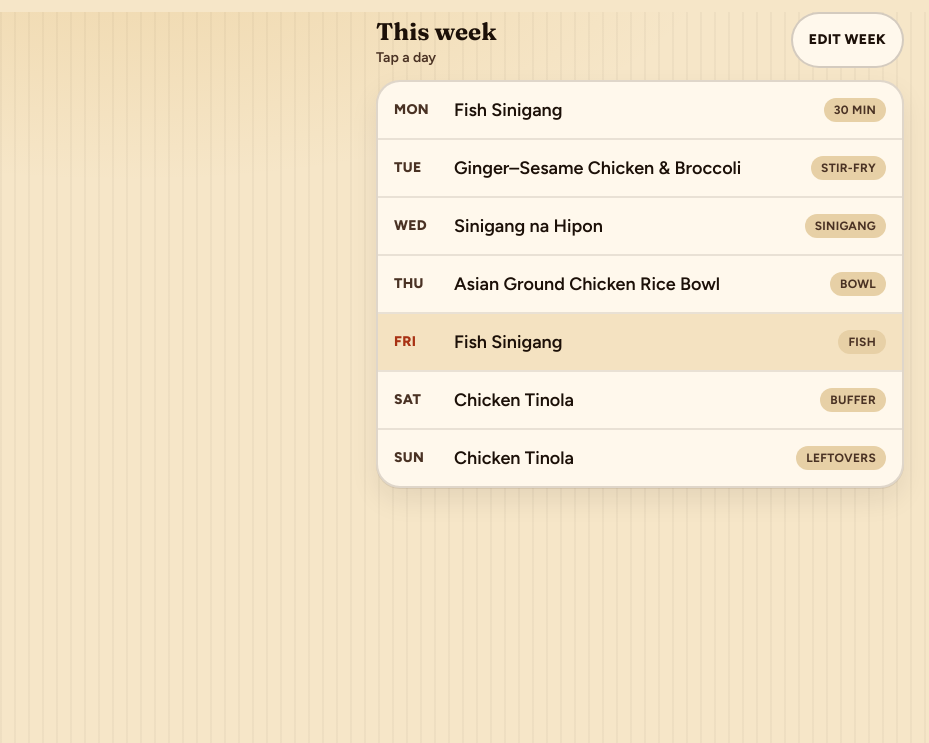
Test: WeekPlan › resets the persisted plan back to the default
The image size is (929, 743).
Expected: the link "Mon Fish Sinigang 30 min" is shown, [394, 98, 886, 122]
Click the button "Edit week": (847, 40) [791, 12, 904, 68]
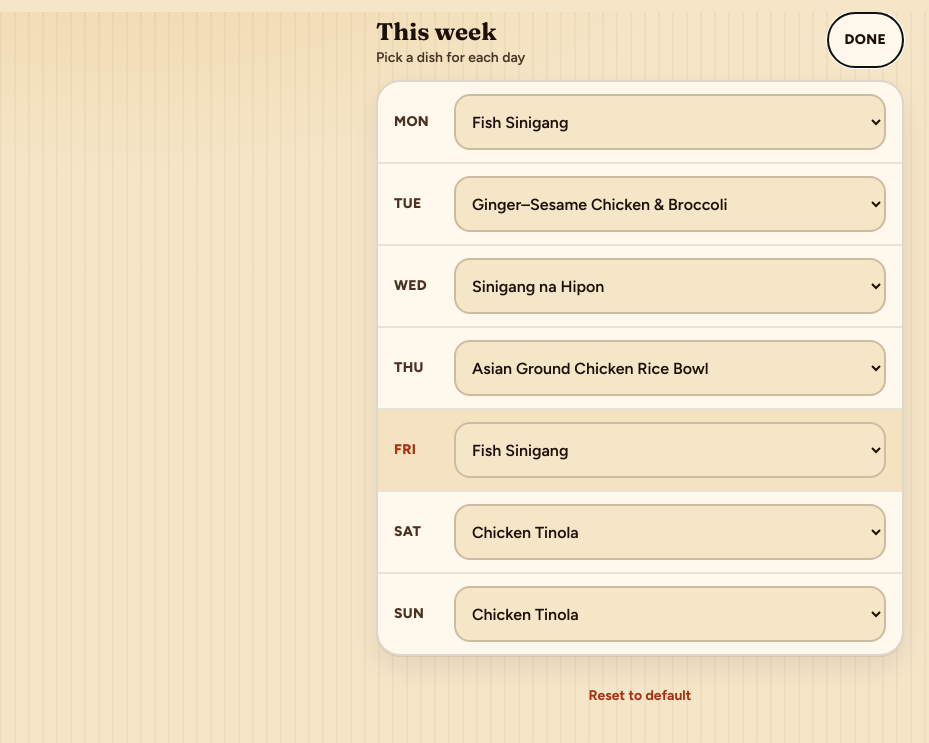
Click the button "Reset to default": (640, 696) [376, 668, 904, 724]
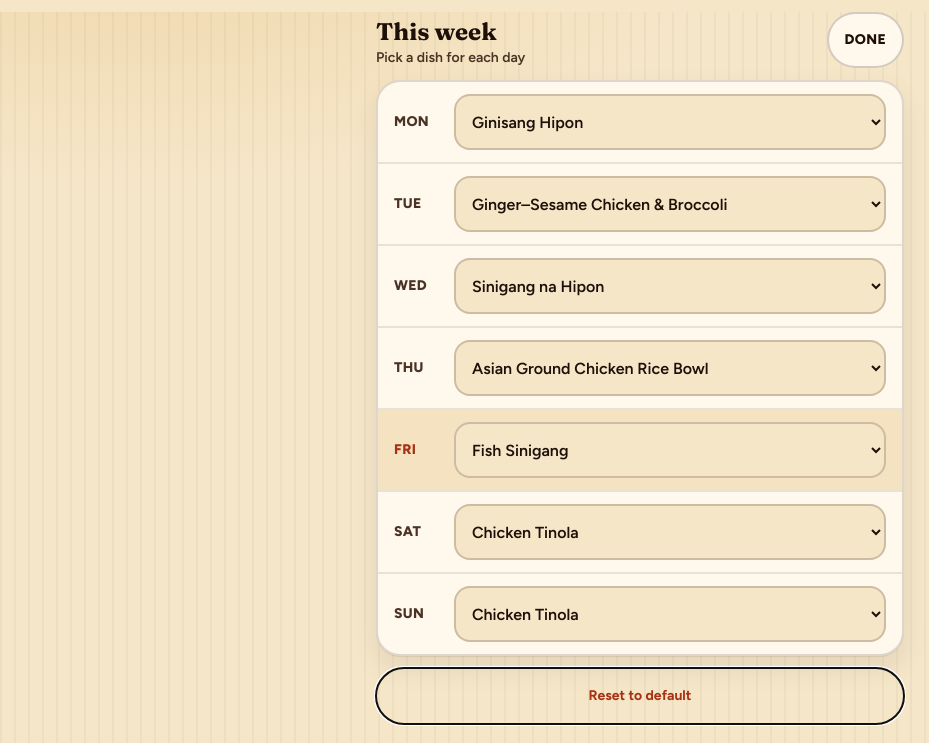
Now the dropdown named "recipe for mon" next to "Mon" shows "Ginisang Hipon", box [454, 94, 886, 150]
